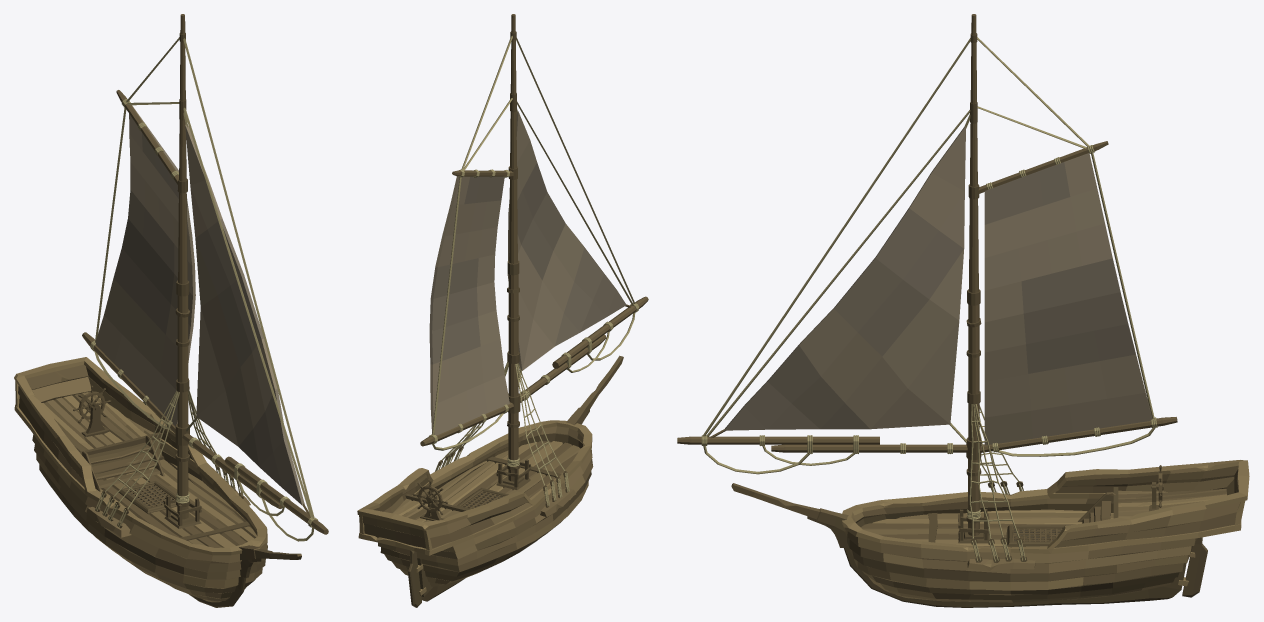
Rendered from SmallShip_3.fbx.
3 renders of one model, left to right at view 1: azimuth 30°, elevation 25°; view 2: azimuth 150°, elevation 25°; view 3: azimuth 270°, elevation 25°, orthographic. The views are drawn at different scales.
Parts seen in each view (by area): view 1: SmallShip_3, SmallShip_3_Sails, SmallShip_3_Mast, SmallShip_3_ShipWheel; view 2: SmallShip_3_Sails, SmallShip_3, SmallShip_3_Mast, SmallShip_3_ShipWheel; view 3: SmallShip_3_Sails, SmallShip_3, SmallShip_3_Mast.
Part boxes in pixels (x1,y1,x2,y2): SmallShip_3: (14,357,301,607); SmallShip_3_Sails: (95,105,304,505); SmallShip_3_Mast: (82,14,328,541); SmallShip_3_ShipWheel: (73,385,111,423); SmallShip_3_Sails: (429,111,626,435); SmallShip_3: (357,355,623,607); SmallShip_3_Mast: (420,14,648,481); SmallShip_3_ShipWheel: (412,480,447,517); SmallShip_3_Sails: (724,126,1152,445); SmallShip_3: (731,404,1249,607); SmallShip_3_Mast: (677,14,1177,535).
Bounding box in the file's own units: 542 × 2222 × 1943.
